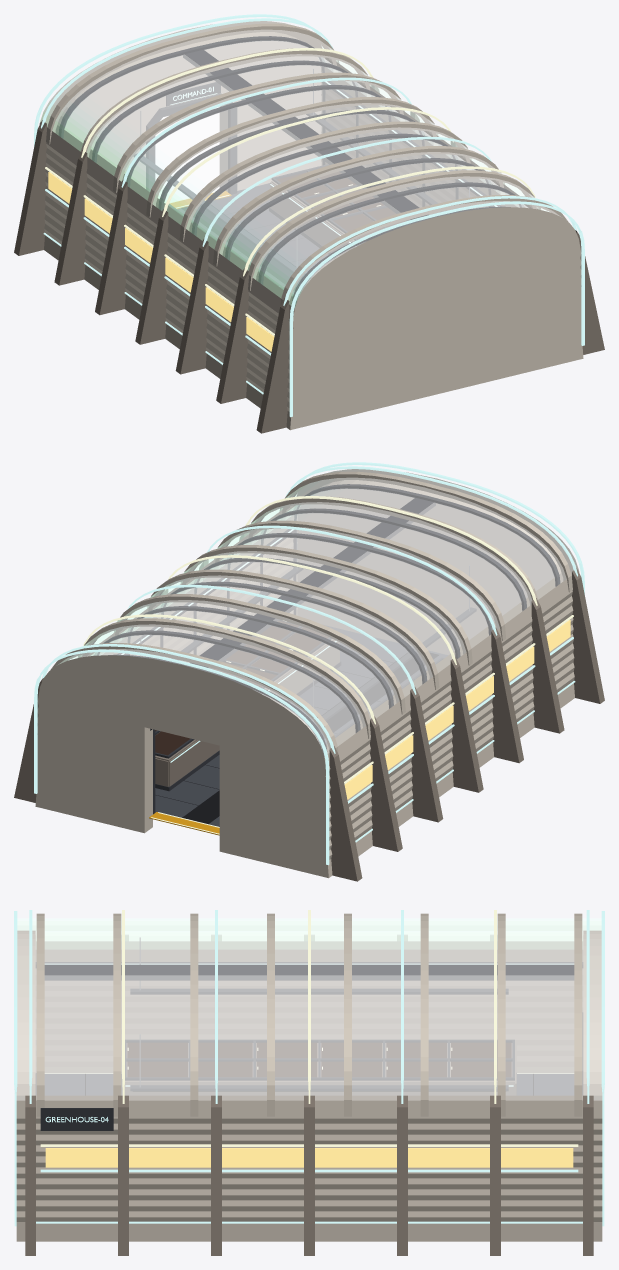
The model's file is Greenhouse.fbx.
3 views of the same model, one above another, from view 1: azimuth 30°, elevation 25°; view 2: azimuth 150°, elevation 25°; view 3: azimuth 270°, elevation 25° (orthographic). The views are drawn at different scales.
Visible parts, largest first — view 1: Greenhouse solid, Greenhouse trim; view 2: Greenhouse solid, Greenhouse trim; view 3: Greenhouse solid, Greenhouse trim.
Boxes of the visible parts, x1,y1,x2,y2 form: Greenhouse solid: (14,21,604,433); Greenhouse trim: (34,14,584,417); Greenhouse solid: (14,469,604,881); Greenhouse trim: (34,462,584,865); Greenhouse solid: (16,918,602,1255); Greenhouse trim: (14,910,604,1226).
Bounding box in the file's own units: 9.16 × 4.63 × 11.87.
